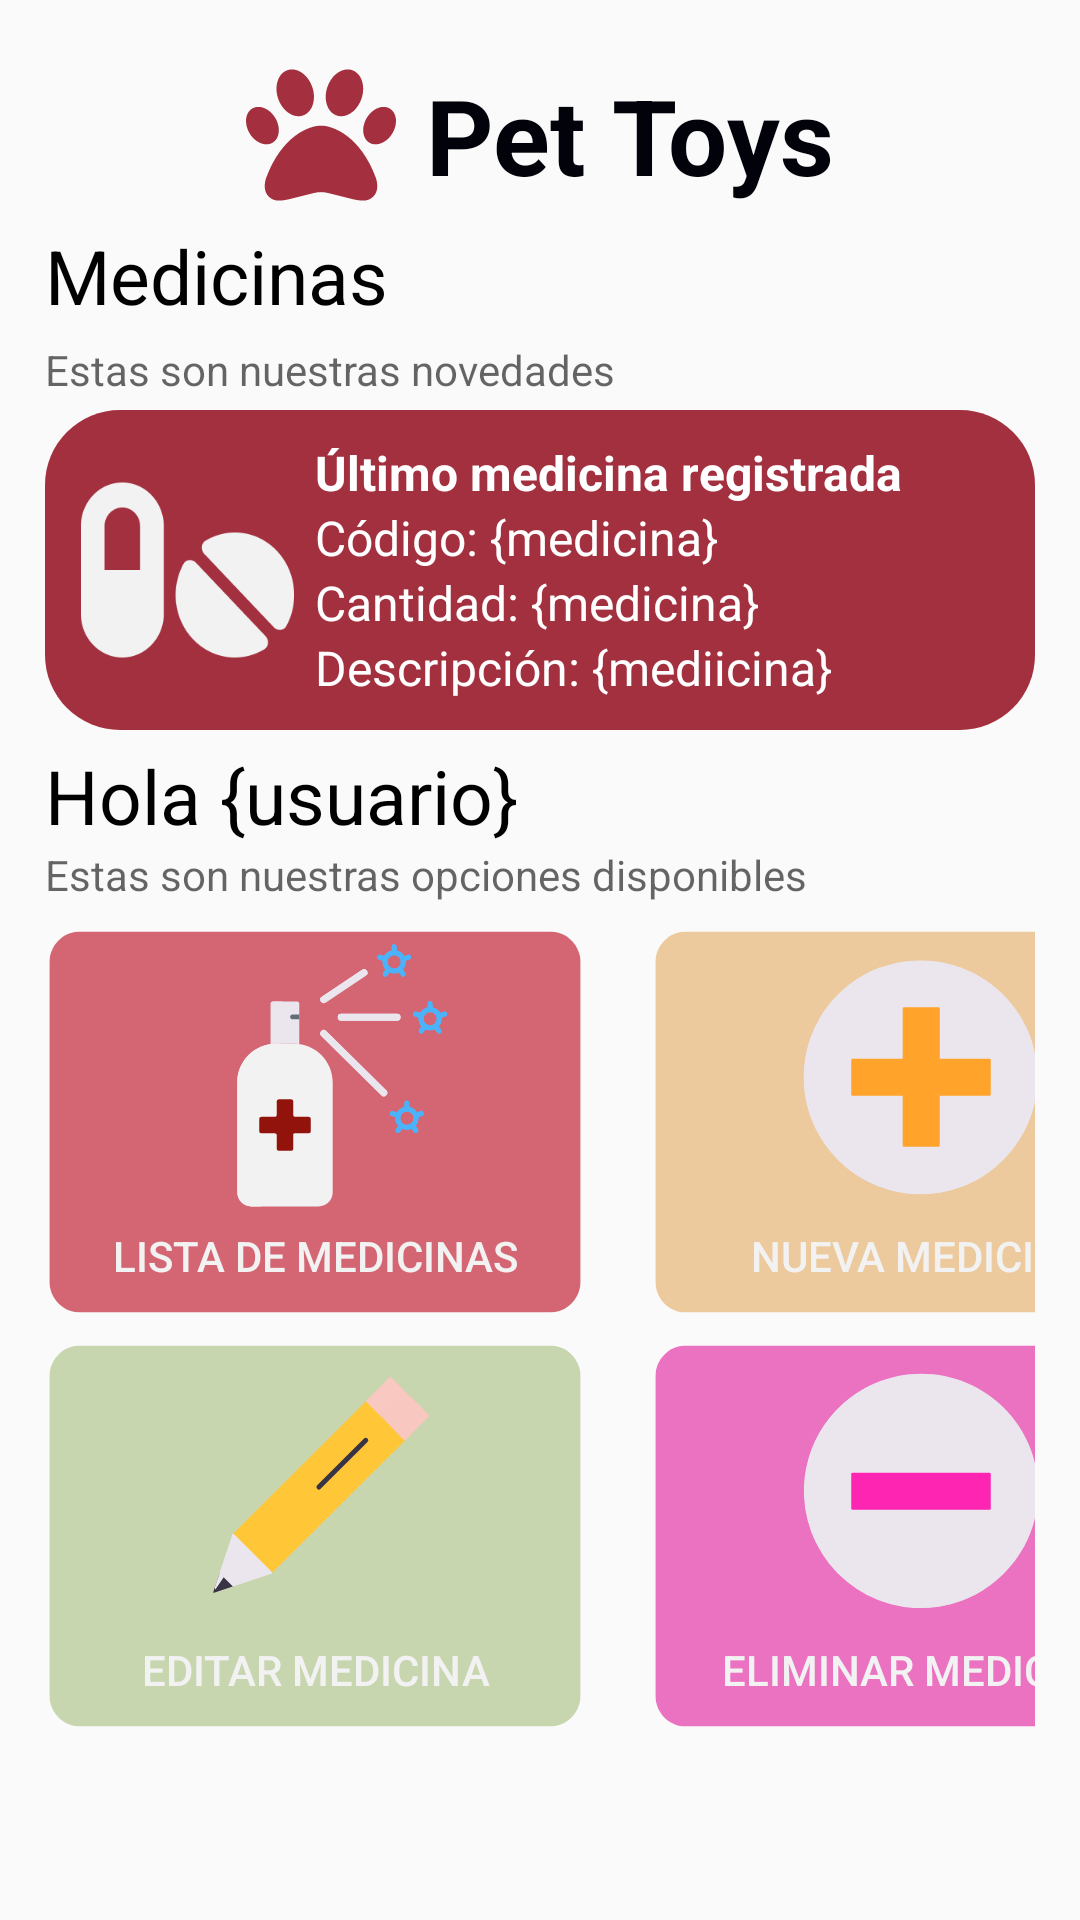

Locate icon controls on the screen. Image size 1080px x 1920px, boxes as (x1=x1, y1=y1, x2=x2, y2=y2).
paw: (x1=246, y1=69, x2=396, y2=201)
pillssolid: (x1=81, y1=482, x2=294, y2=658)
